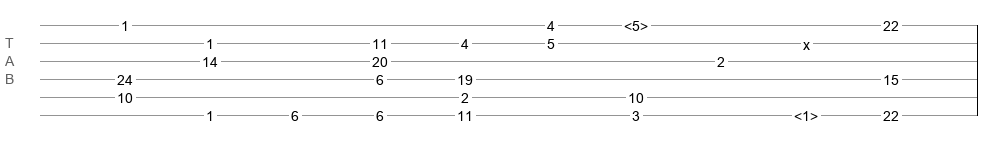1: (121, 18, 129, 28), (206, 36, 214, 46), (206, 108, 214, 118)
10: (117, 90, 133, 100), (628, 90, 644, 100)
11: (372, 36, 388, 46), (457, 108, 473, 118)
14: (202, 54, 218, 64)
15: (883, 72, 899, 82)
19: (457, 72, 473, 82)
2: (461, 90, 469, 100), (717, 54, 725, 64)
20: (372, 54, 388, 64)
22: (883, 18, 899, 28), (883, 108, 899, 118)
24: (117, 72, 133, 82)
3: (632, 108, 640, 118)
4: (461, 36, 469, 46), (547, 18, 555, 28)
5: (547, 36, 555, 46)
6: (291, 108, 299, 118), (376, 72, 384, 82), (376, 108, 384, 118)
harmonic: (624, 18, 648, 28), (794, 108, 818, 118)
x: (803, 37, 810, 45)
